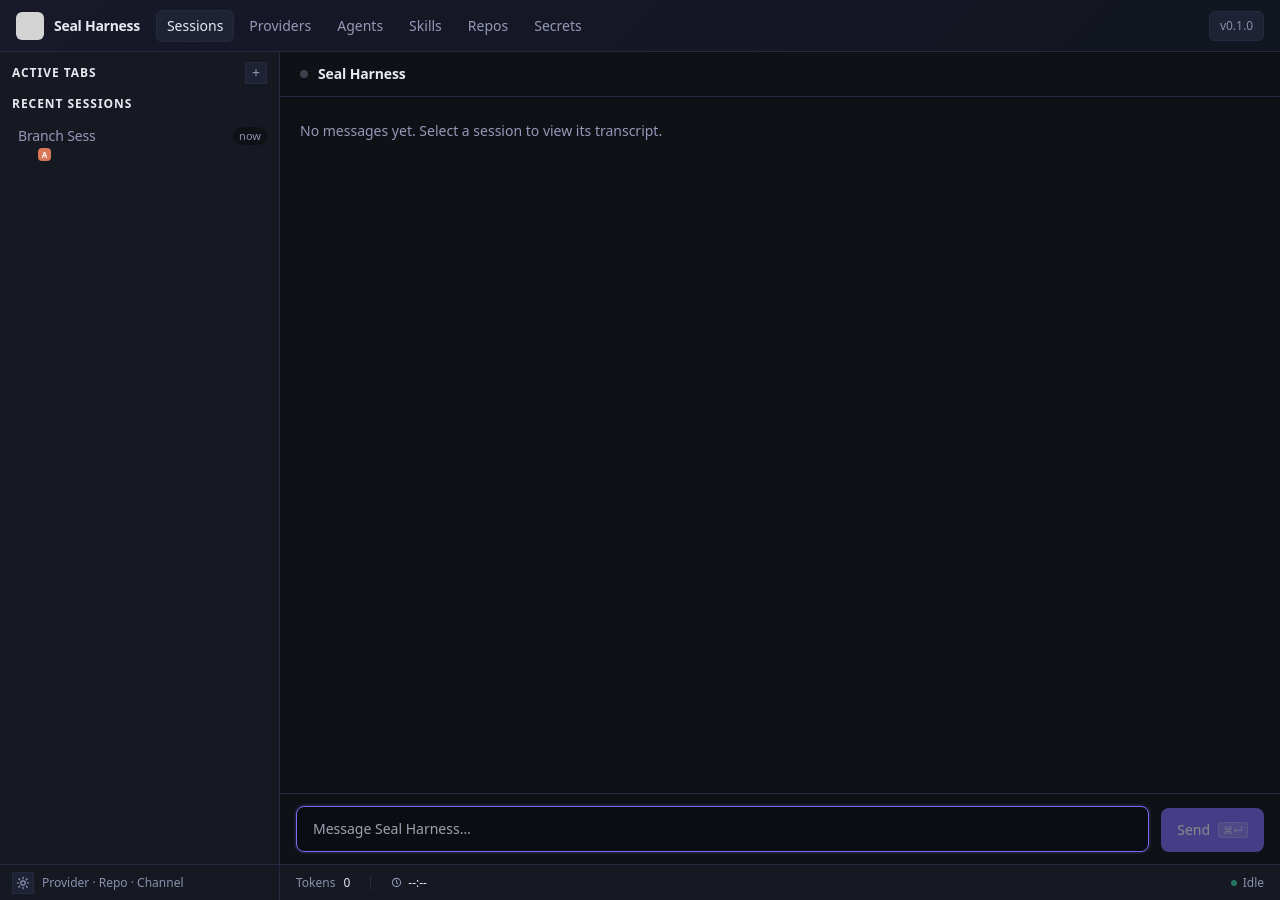
Scenario: App — send + branch › branch-from-here opens the composer with branchFrom set
// Select the provider session.
Click the text "Branch Sess": (57, 136) [18,126,96,146]
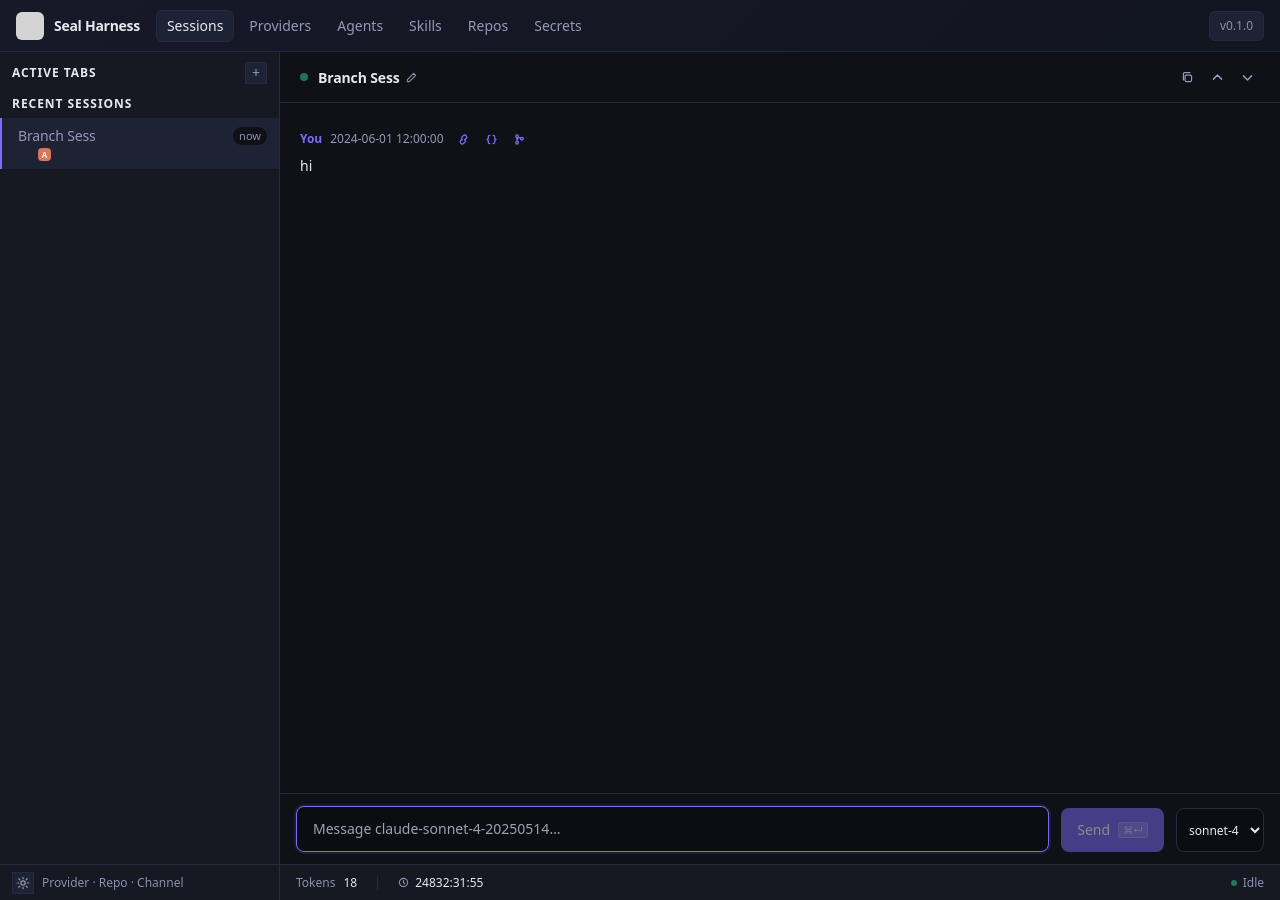
Check: the text "hi" is shown, box [300,156,312,175]
Click the button named "branch session from here": (520, 139) [508,127,532,151]
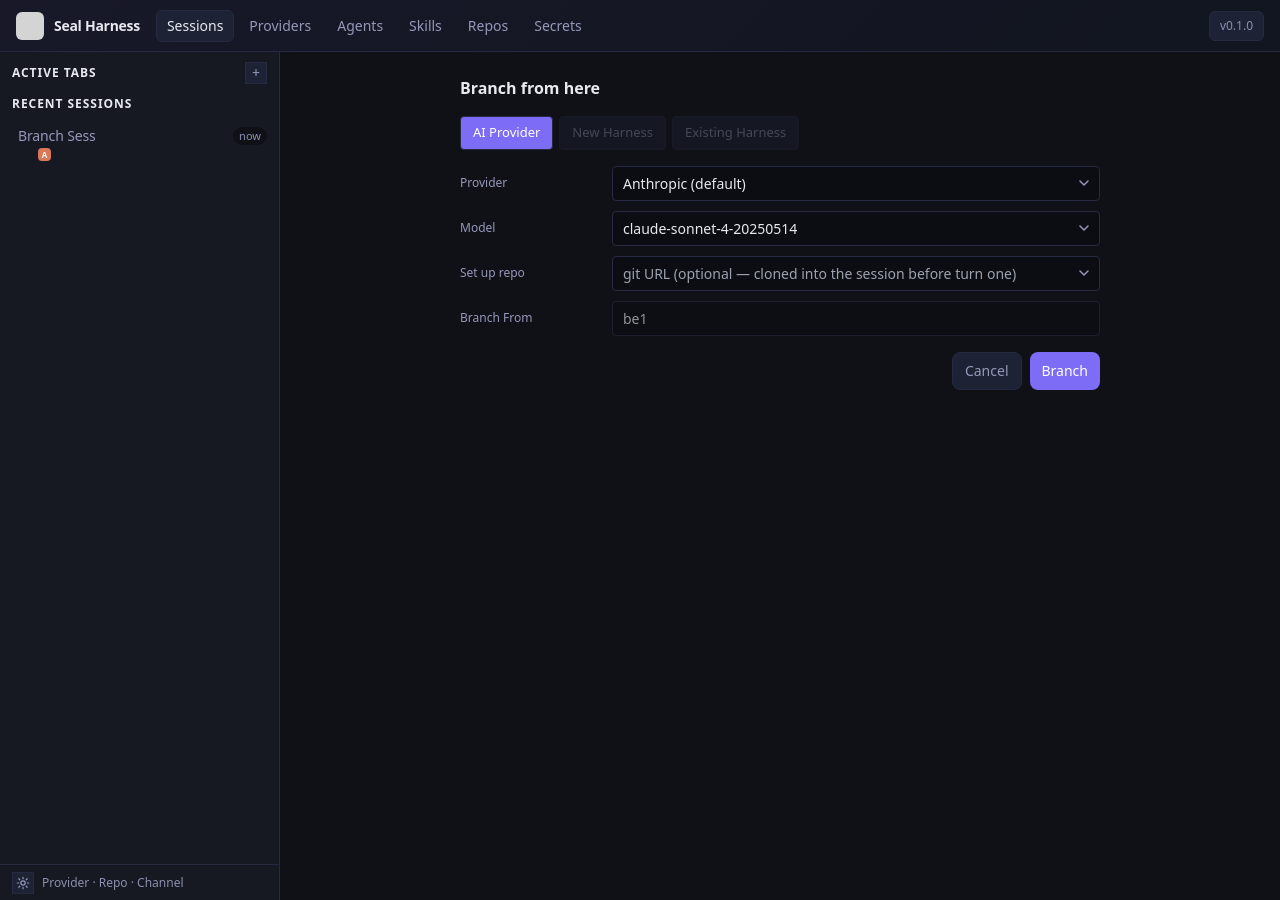
Check: the text "Branch from here" is shown, box [460,77,600,99]
